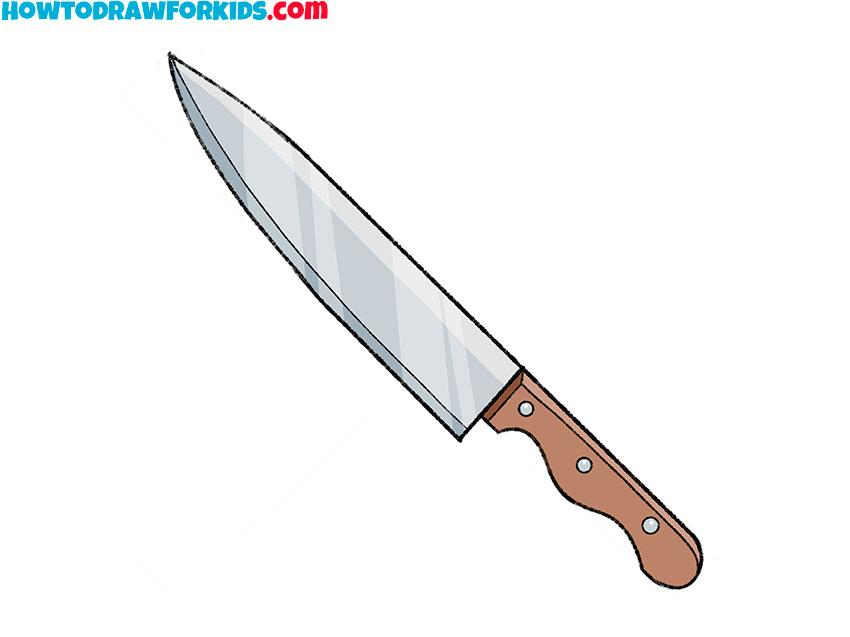Knife: (158, 43, 720, 597)
